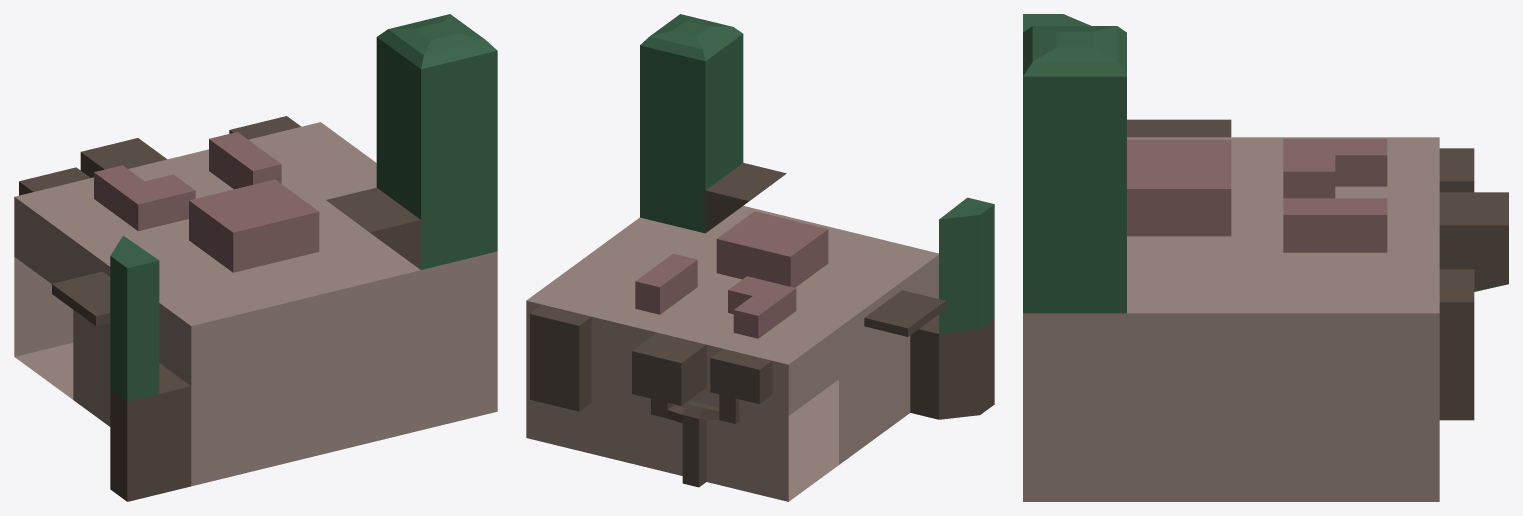
The model's file is Factory.fbx.
3 renders of one model, left to right at view 1: azimuth 30°, elevation 25°; view 2: azimuth 150°, elevation 25°; view 3: azimuth 270°, elevation 25°, orthographic. The views are drawn at different scales.
Visible parts, largest first — view 1: Cube; view 2: Cube; view 3: Cube.
Part boxes in pixels (<box>): Cube: <box>14,14,497,501</box>; Cube: <box>526,14,994,501</box>; Cube: <box>1023,14,1508,501</box>.
Size of the model in its own units: 1450 by 1400 by 1400.
